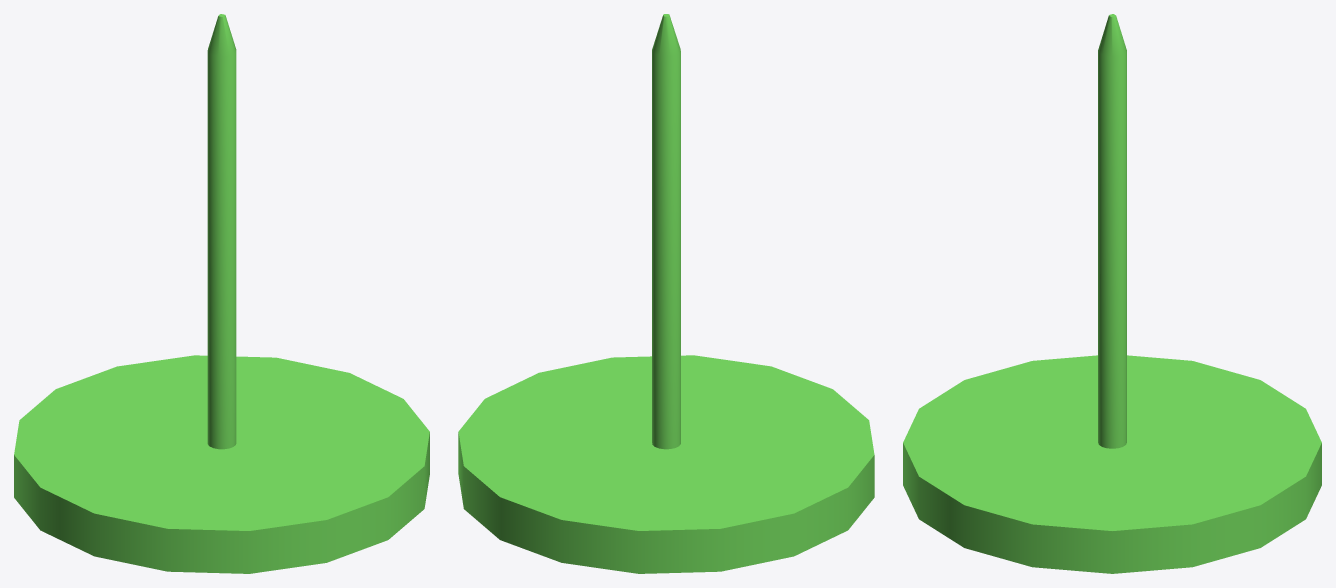
The model's file is nail_low.fbx.
The picture shows the model from 3 angles, left to right: view 1: azimuth 30°, elevation 25°; view 2: azimuth 150°, elevation 25°; view 3: azimuth 270°, elevation 25°; orthographic projection.
Visible parts, largest first — view 1: nail_1; view 2: nail_1; view 3: nail_1.
Part boxes in pixels (<box>): nail_1: <box>14,14,429,573</box>; nail_1: <box>458,14,874,573</box>; nail_1: <box>903,14,1321,573</box>.
Size of the model in its own units: 21.05 by 26.05 by 21.05.
